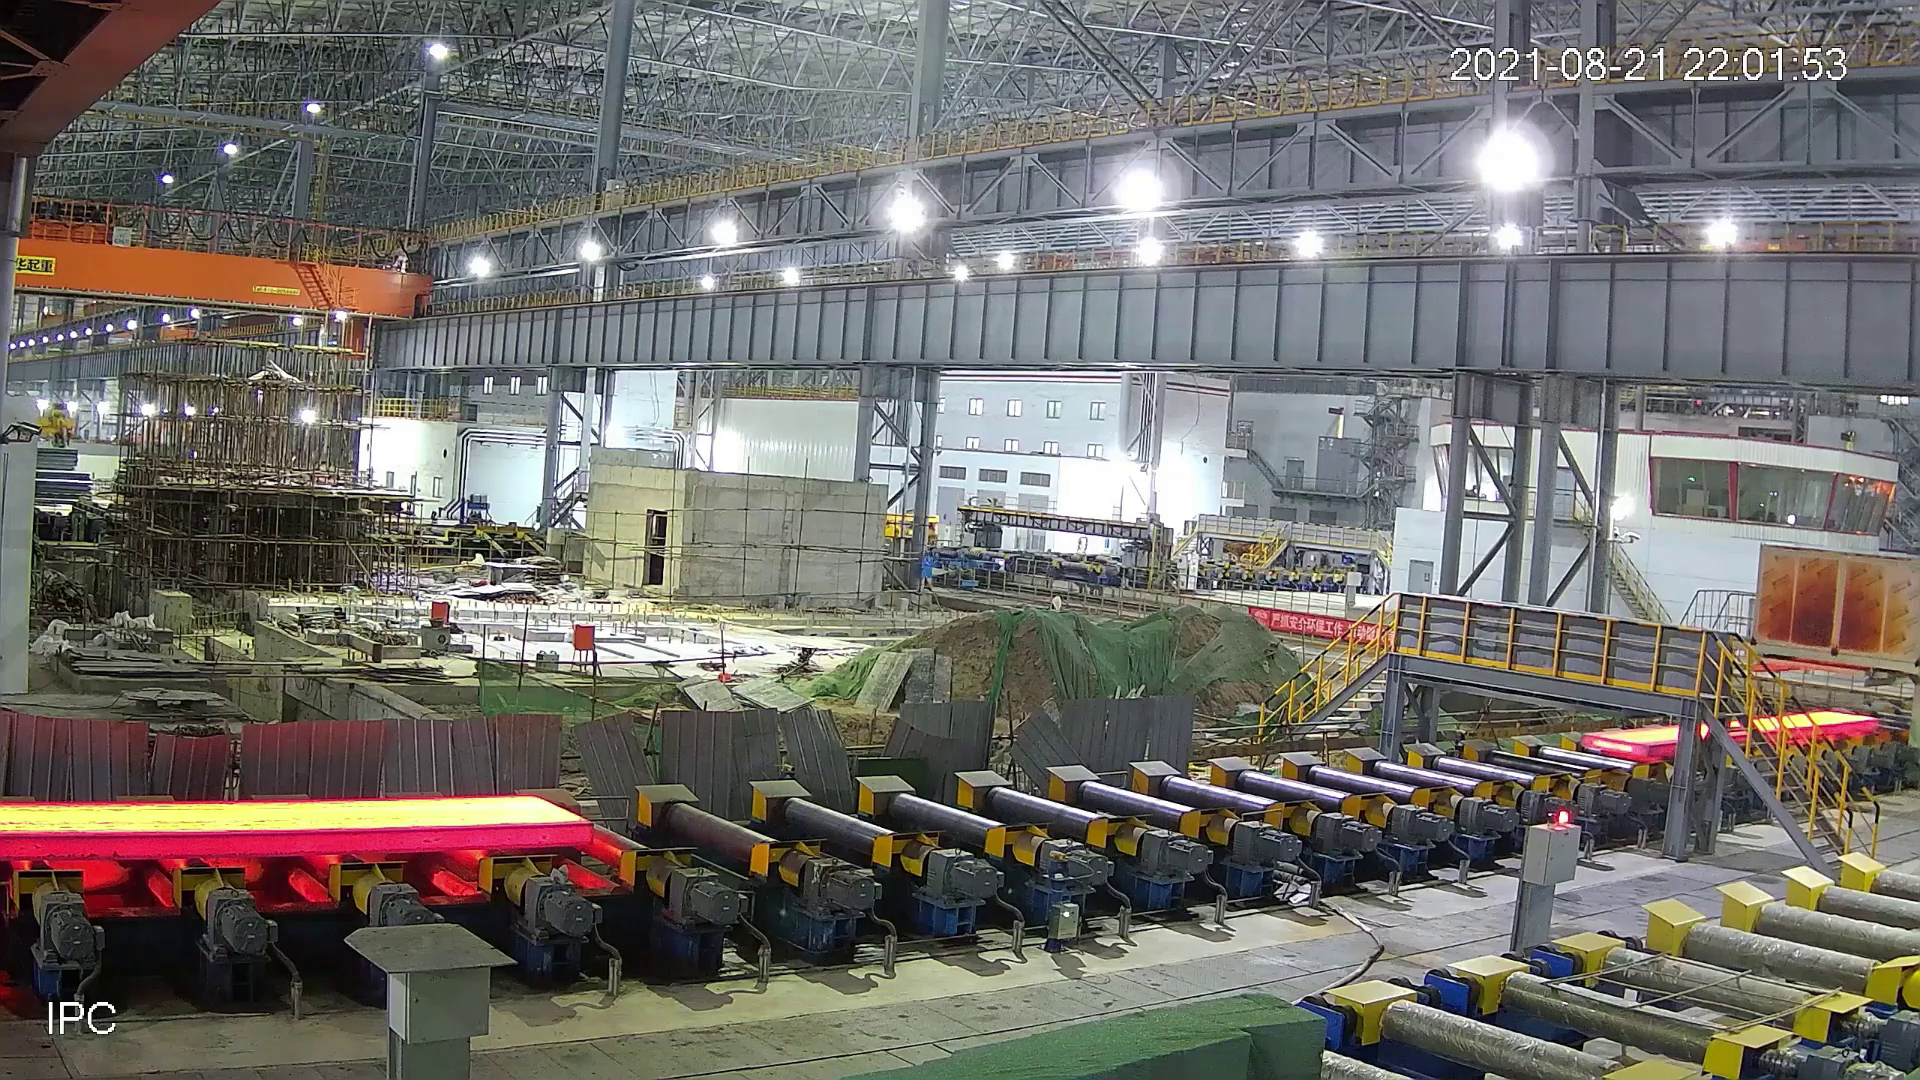slab: (1, 793, 597, 866), (1578, 709, 1882, 760)
